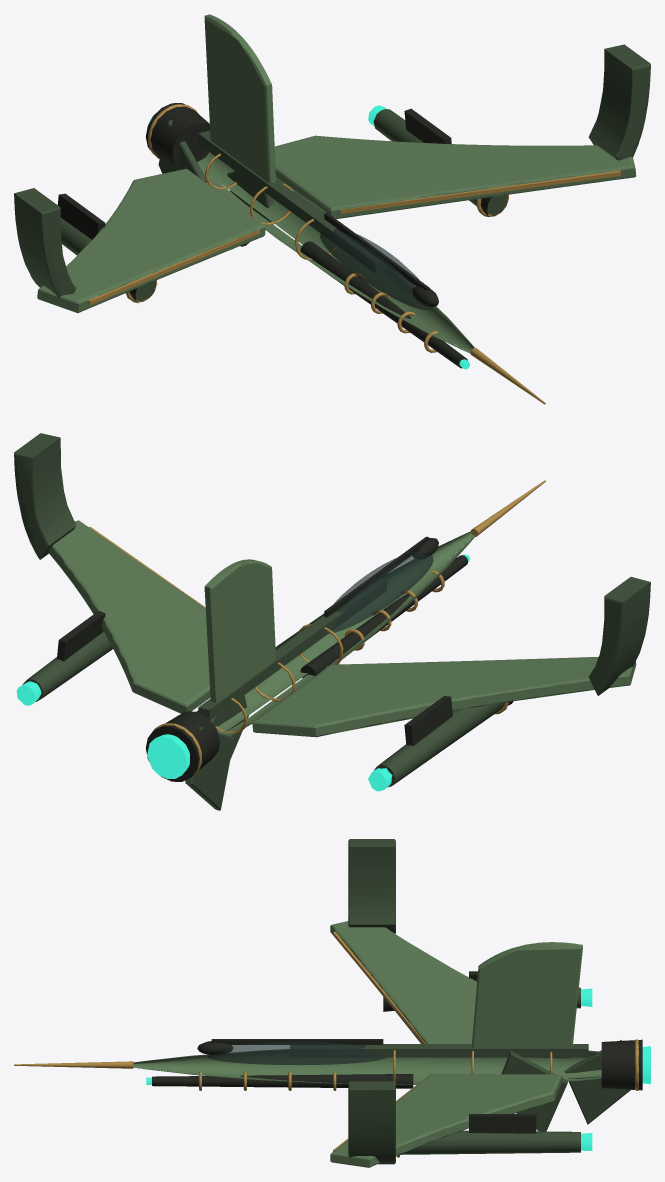
File: warbird-light-lod1.glb
3 views of the same model, one above another, from view 1: azimuth 30°, elevation 25°; view 2: azimuth 150°, elevation 25°; view 3: azimuth 270°, elevation 25° (orthographic). The views are drawn at different scales.
Parts seen in each view (by area): view 1: object 1; view 2: object 1, object 2; view 3: object 1, object 2.
Part boxes in pixels (x1=…): object 1: x1=14, y1=14, x2=650, y2=404; object 1: x1=14, y1=433, x2=650, y2=810; object 2: x1=16, y1=554, x2=470, y2=791; object 1: x1=14, y1=839, x2=642, y2=1167; object 2: x1=146, y1=988, x2=650, y2=1150.
Bounding box in the file's own units: 15.91 × 5.51 × 17.08.
